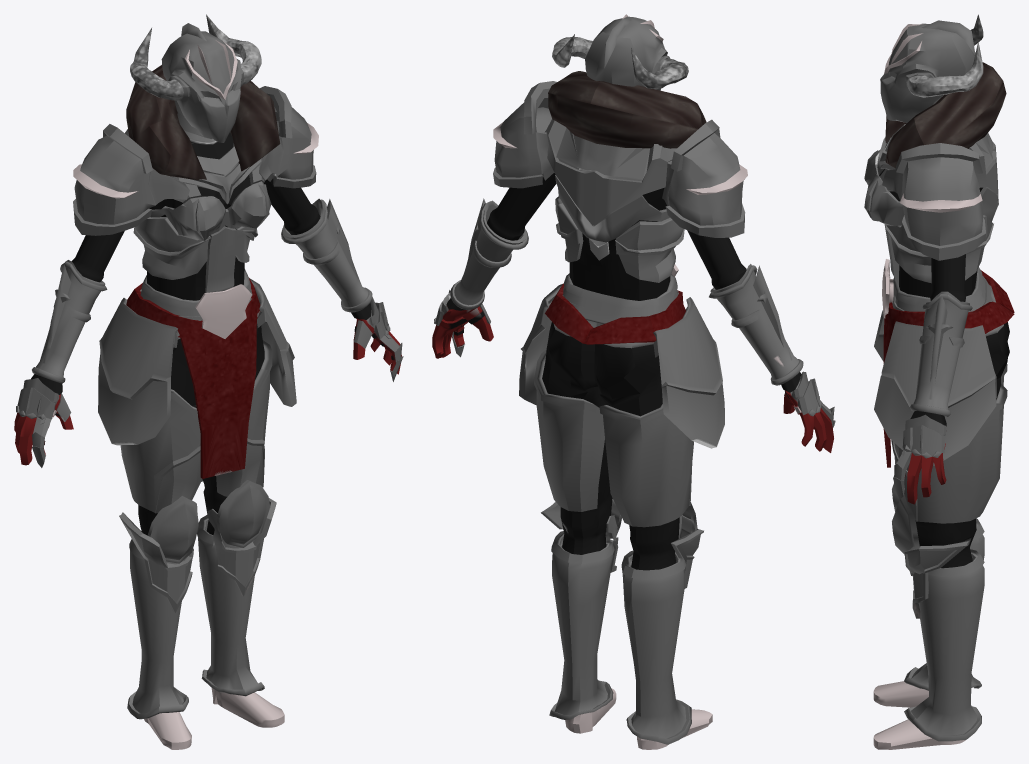
Rendered from suit_female_knight_alt__female-knight-model.glb.
The picture shows the model from 3 angles, left to right: view 1: azimuth 30°, elevation 25°; view 2: azimuth 150°, elevation 25°; view 3: azimuth 270°, elevation 25°; orthographic projection. The views are drawn at different scales.
Parts seen in each view (by area): view 1: Object_3, Object_4, Object_2; view 2: Object_3, Object_4, Object_2; view 3: Object_3, Object_4, Object_2.
Boxes of the visible parts, <box> form: Object_3: <box>25,14,388,749</box>; Object_4: <box>14,126,403,719</box>; Object_2: <box>16,60,401,704</box>; Object_3: <box>454,14,819,749</box>; Object_4: <box>432,131,835,744</box>; Object_2: <box>434,32,833,749</box>; Object_3: <box>864,14,1009,749</box>; Object_4: <box>879,124,998,690</box>; Object_2: <box>865,49,1014,573</box>.
Bounding box in the file's own units: 121 × 208 × 40.41.
1 material, 1 textured.
